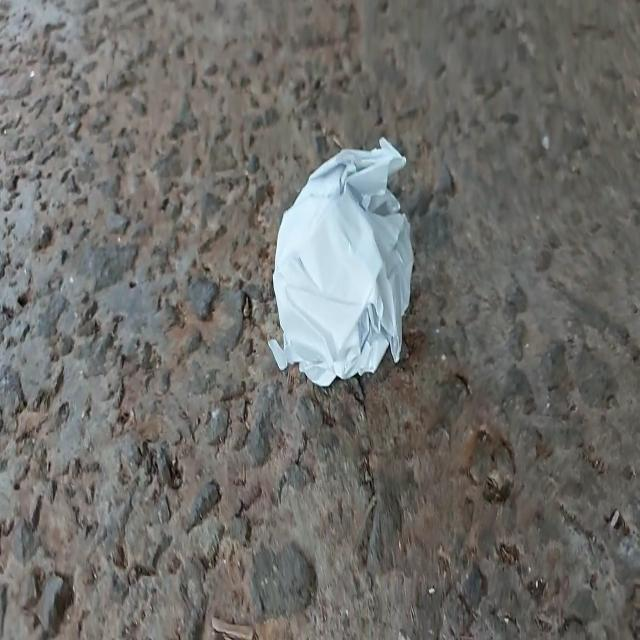Paper: (249, 115, 431, 417)
